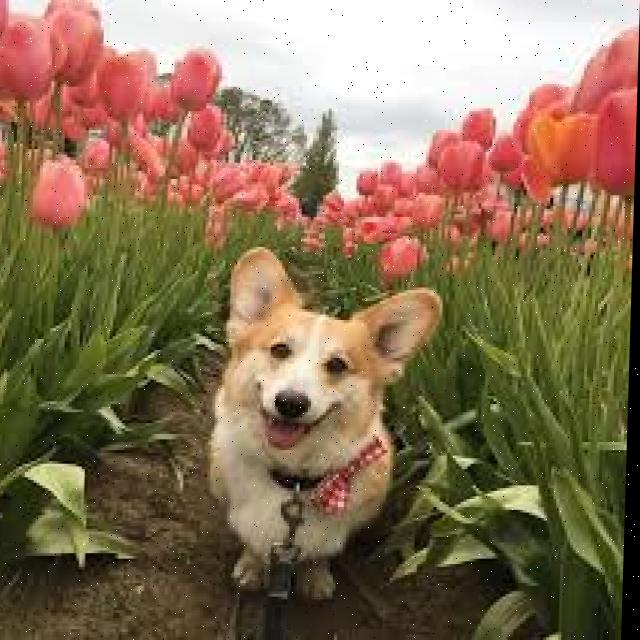CORGI: (167, 252, 450, 608)
